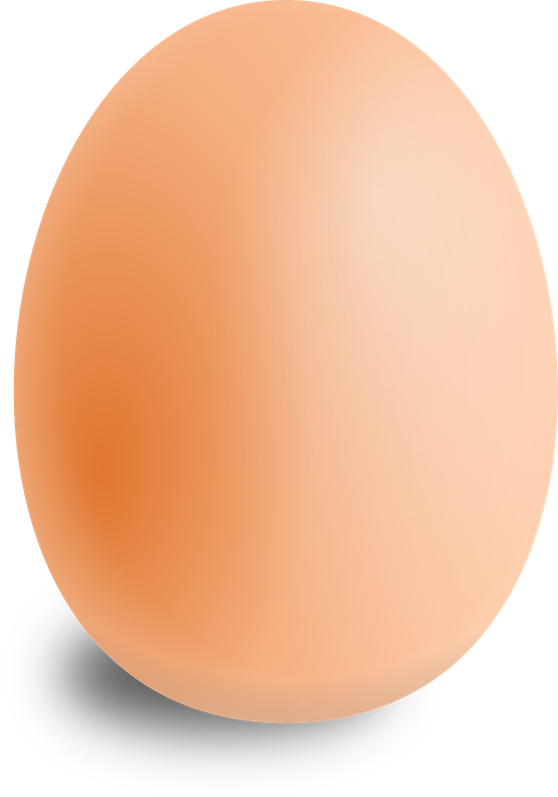egg: (1, 7, 558, 733)
